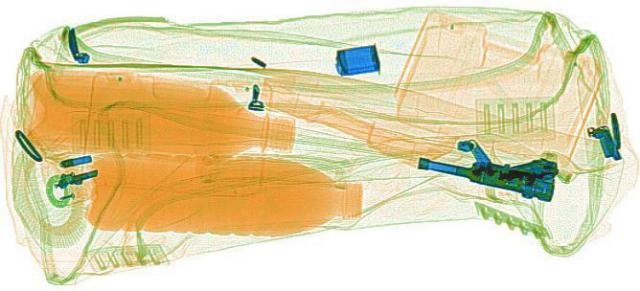Gun: (401, 146, 565, 198)
